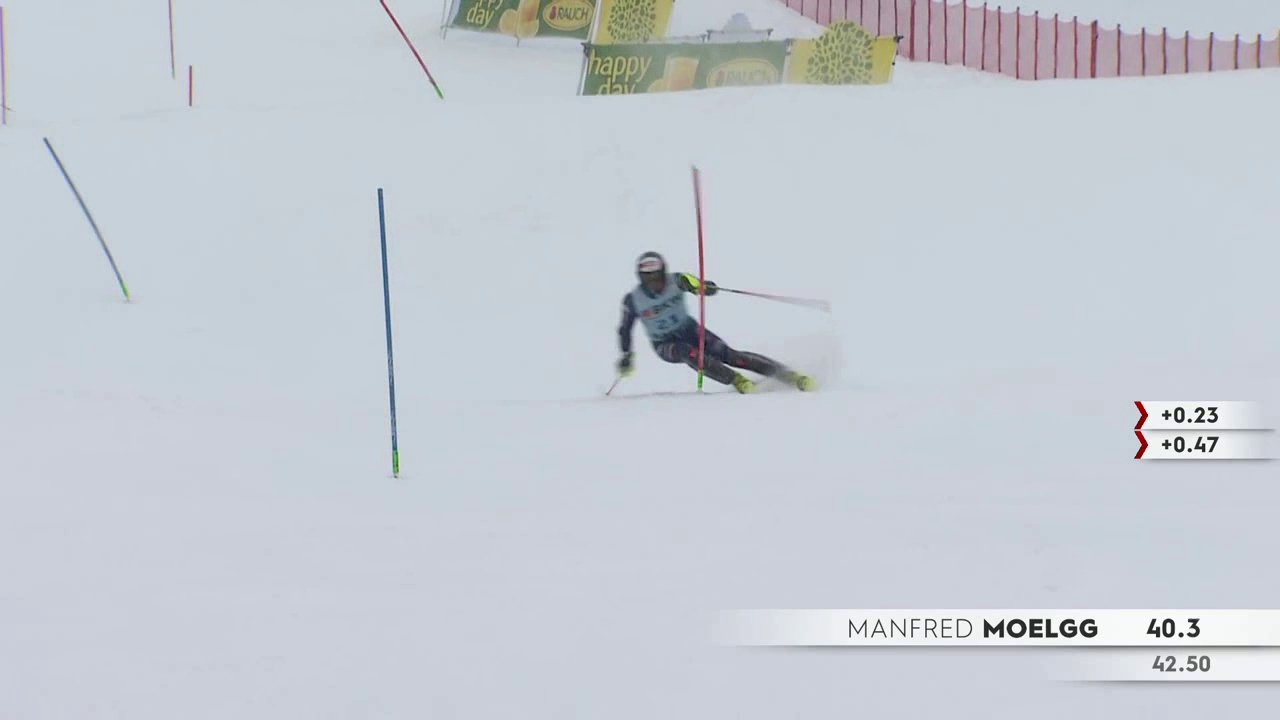rauch: (708, 60, 781, 89), (541, 3, 596, 35)
